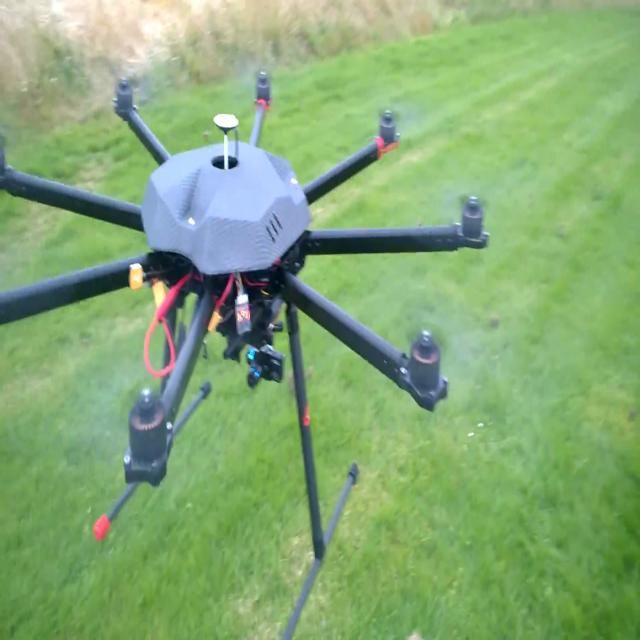drone: (0, 64, 498, 640)
